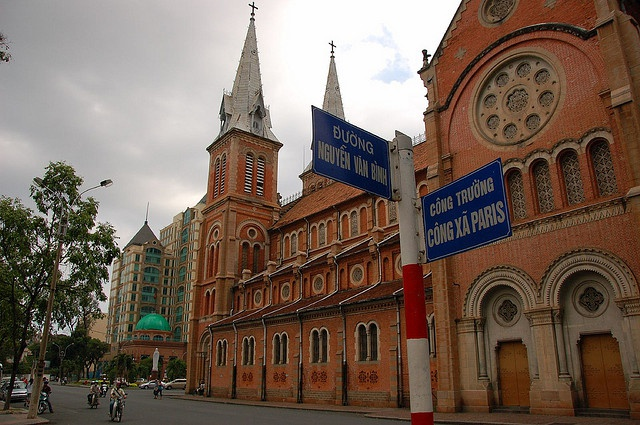non-vehicle: (108, 392, 127, 421), (38, 392, 47, 415), (98, 383, 109, 398)
